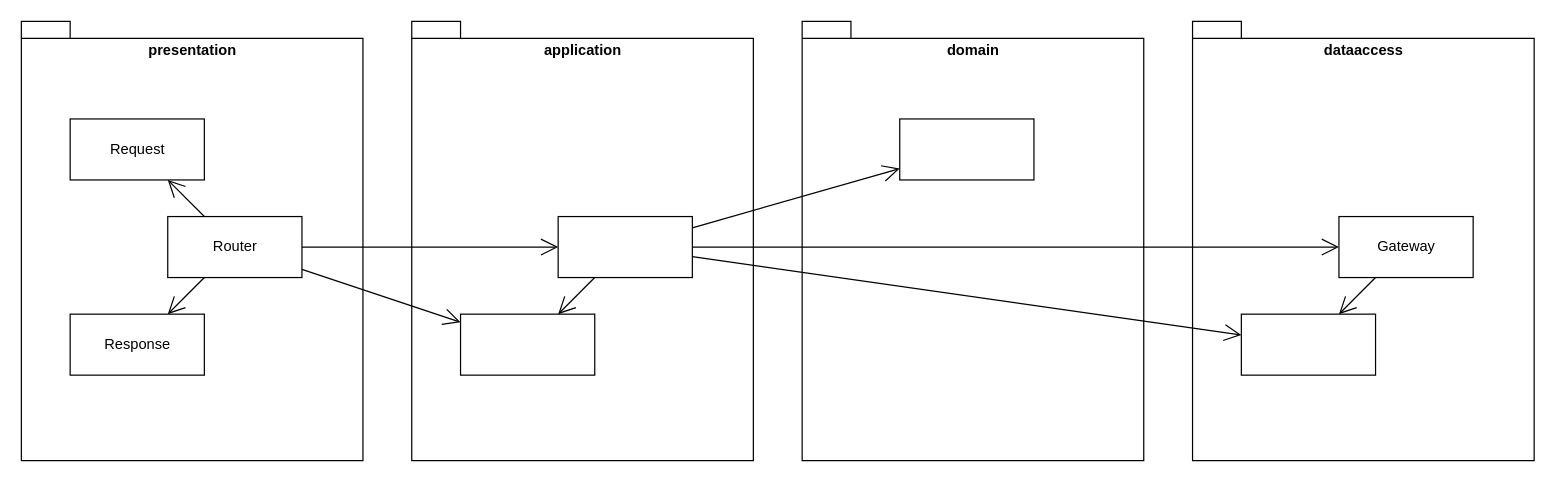
This 1556x482 diagram has some shape labels left out. The shapes that lost their labels are listed below. From the top down, each one's centre as x and y in pixels, then its label:
At point 966,149: "Model".
At point 624,246: "Service".
At point 527,344: "Output".
At point 1308,344: "Record".
